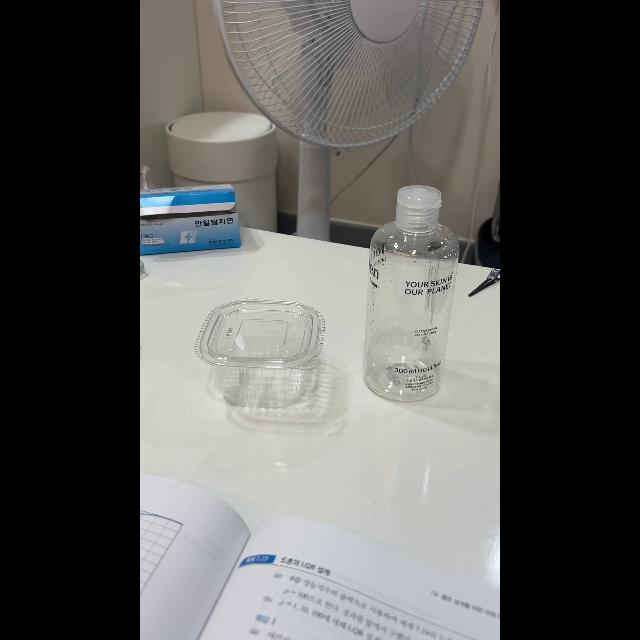clean: (362, 188, 461, 396), (196, 297, 328, 408)
